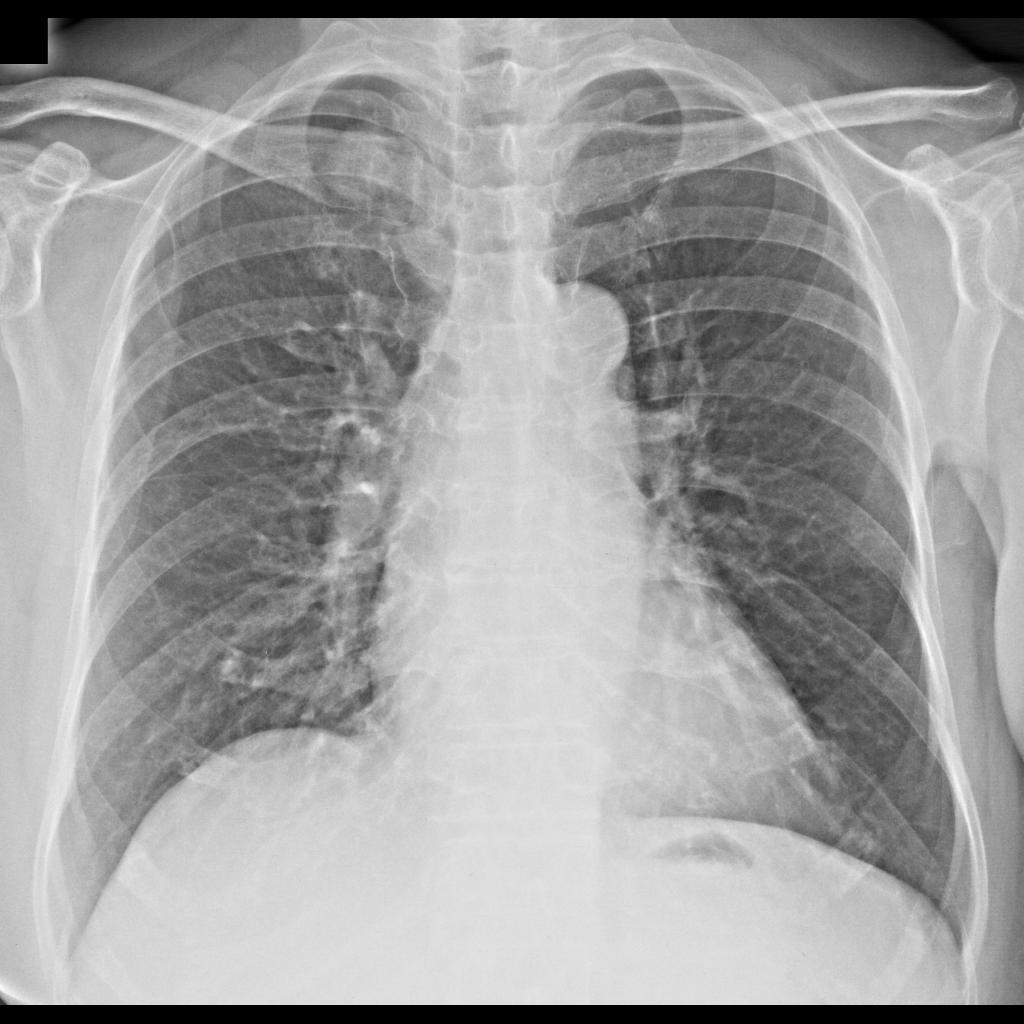Nodule: (324, 129, 396, 201)
